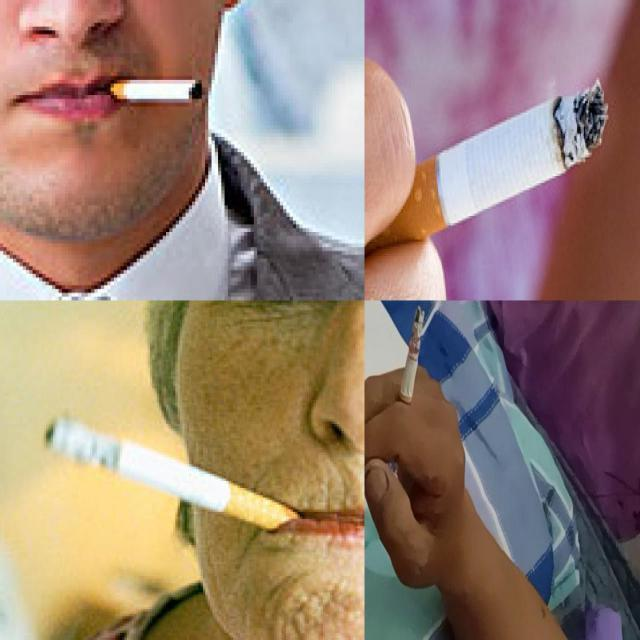cigarette: (413, 72, 610, 238), (40, 414, 305, 534), (392, 304, 426, 428), (108, 72, 202, 102)
